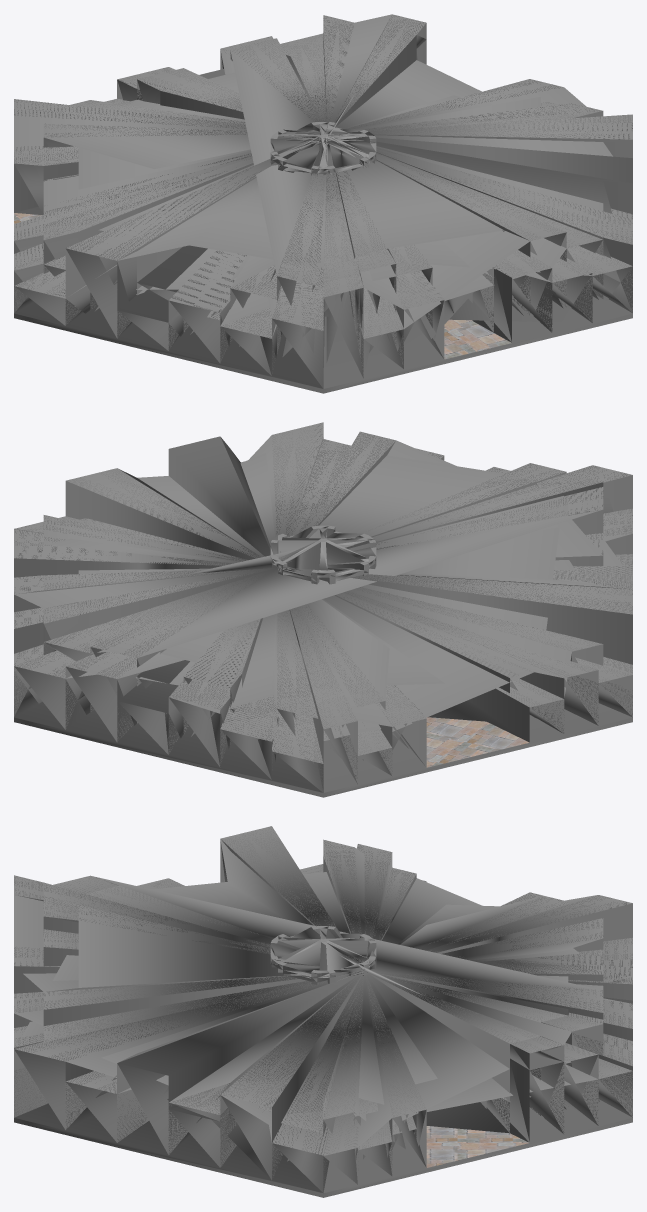
The picture shows the model from 3 angles, top to bottom: view 1: azimuth 30°, elevation 25°; view 2: azimuth 150°, elevation 25°; view 3: azimuth 270°, elevation 25°; orthographic projection.
Visible parts, largest first — view 1: Cylinder050; view 2: Cylinder050; view 3: Cylinder050.
Boxes of the visible parts, x1=… form: Cylinder050: x1=14, y1=14, x2=632, y2=393; Cylinder050: x1=14, y1=422, x2=632, y2=797; Cylinder050: x1=14, y1=826, x2=632, y2=1197.
Bounding box in the file's own units: 140 × 23 × 121.
Materials: 5 (2 with a texture image).
